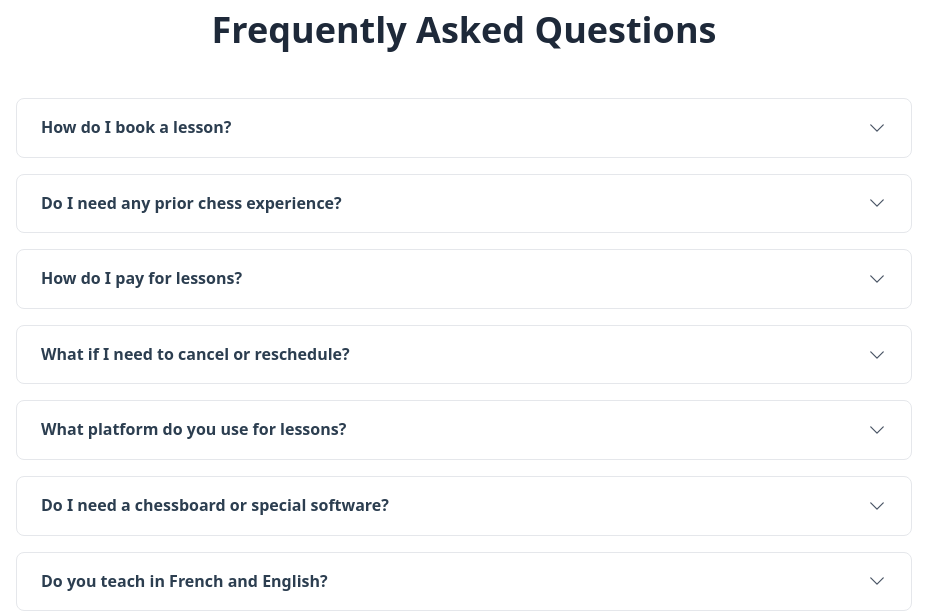
Scenario: FAQ Component › allows multiple items to be open simultaneously
Step 1. Click the button "How do I book a lesson?" → (136, 127), box [17,99,911,157]
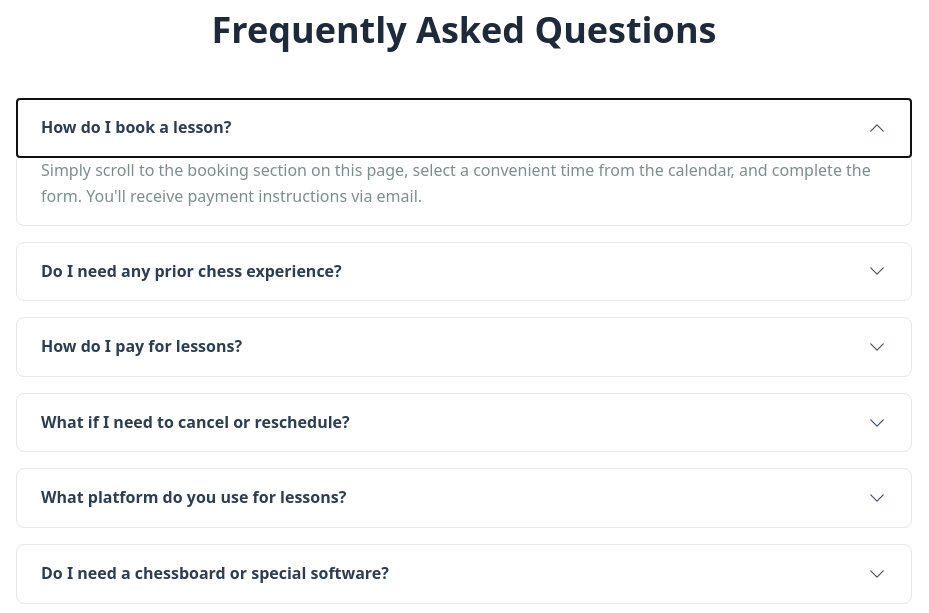
Step 2. Click the button "Do I need any prior chess experience?" → (191, 271), box [17,243,911,300]
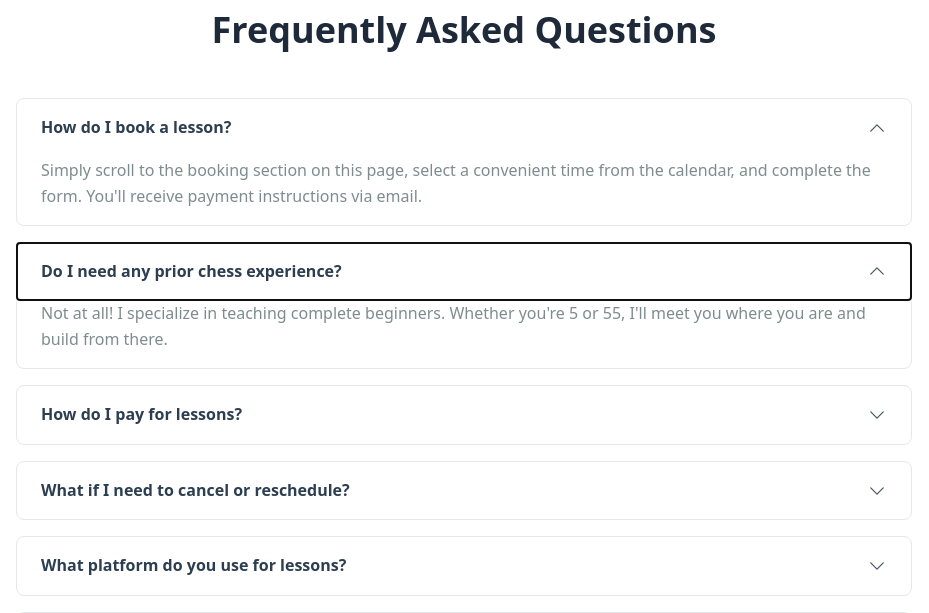
Check: the text "Simply scroll to the booking section" is shown, box [41,159,871,207]
Check: the text "I specialize in teaching complete beginners" is shown, box [41,302,866,350]
